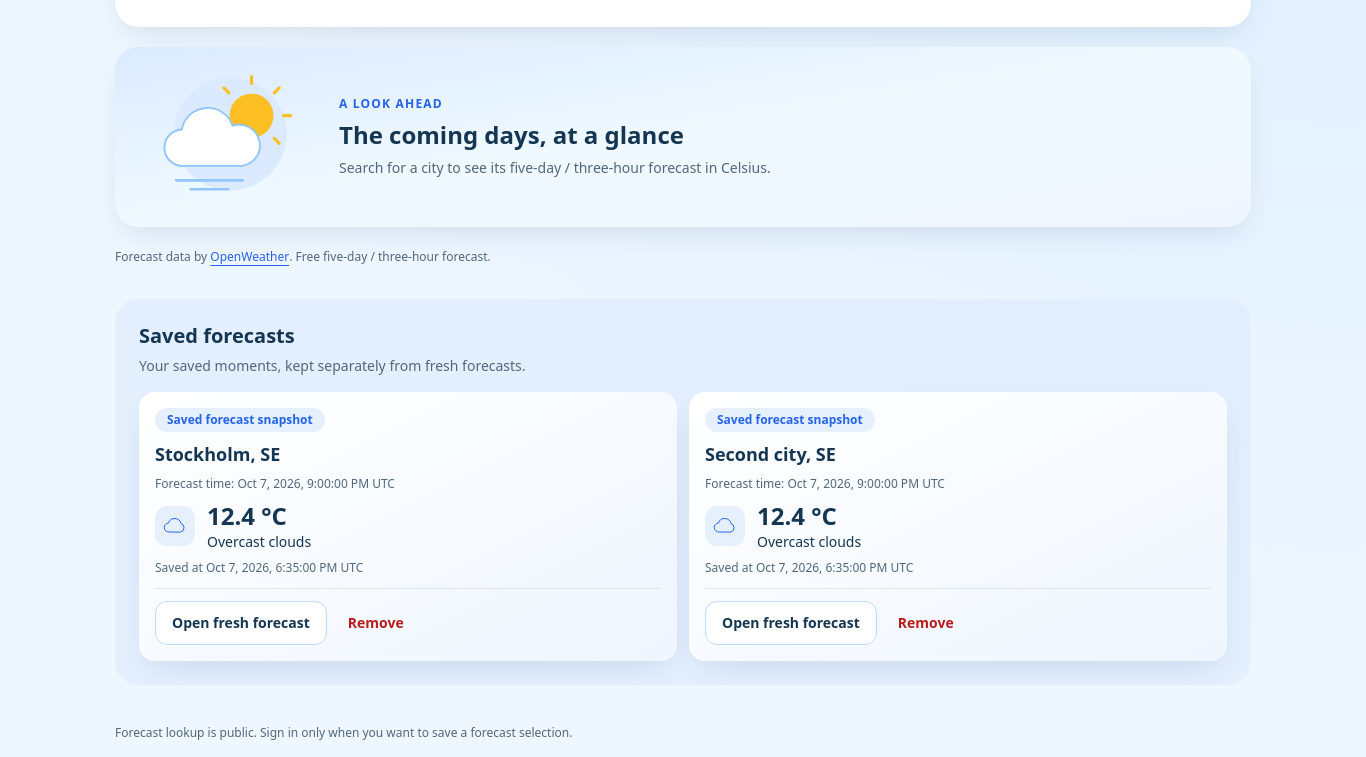
Scenario: weather and authentication journeys › ignores an older saved-location lookup that completes after the latest one
This screenshot has width=1366, height=757.
(page scrolled)
Click the button with aria-label "Open fresh forecast for Stockholm": (241, 623) [155, 601, 327, 645]
(page scrolled)
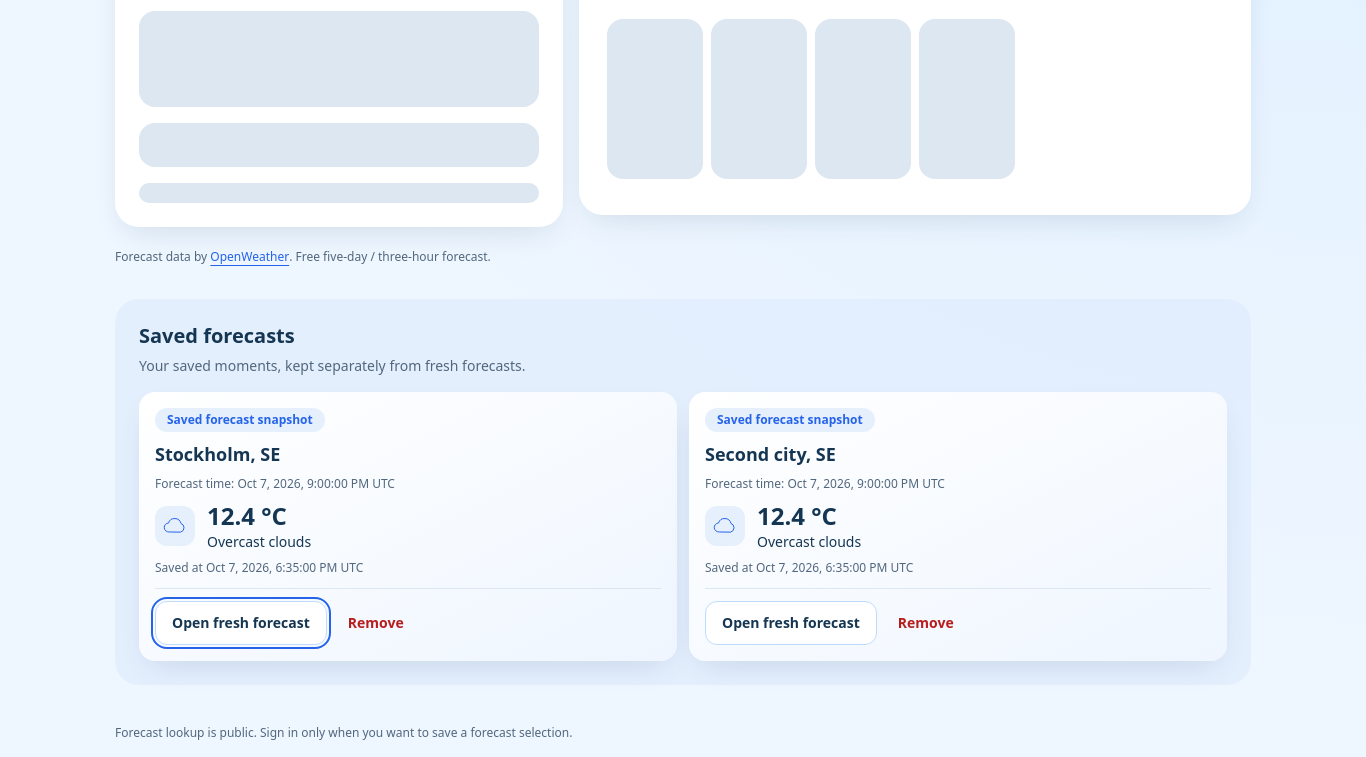
Click the button with aria-label "Open fresh forecast for Second city": (791, 623) [705, 601, 877, 645]
(page scrolled)
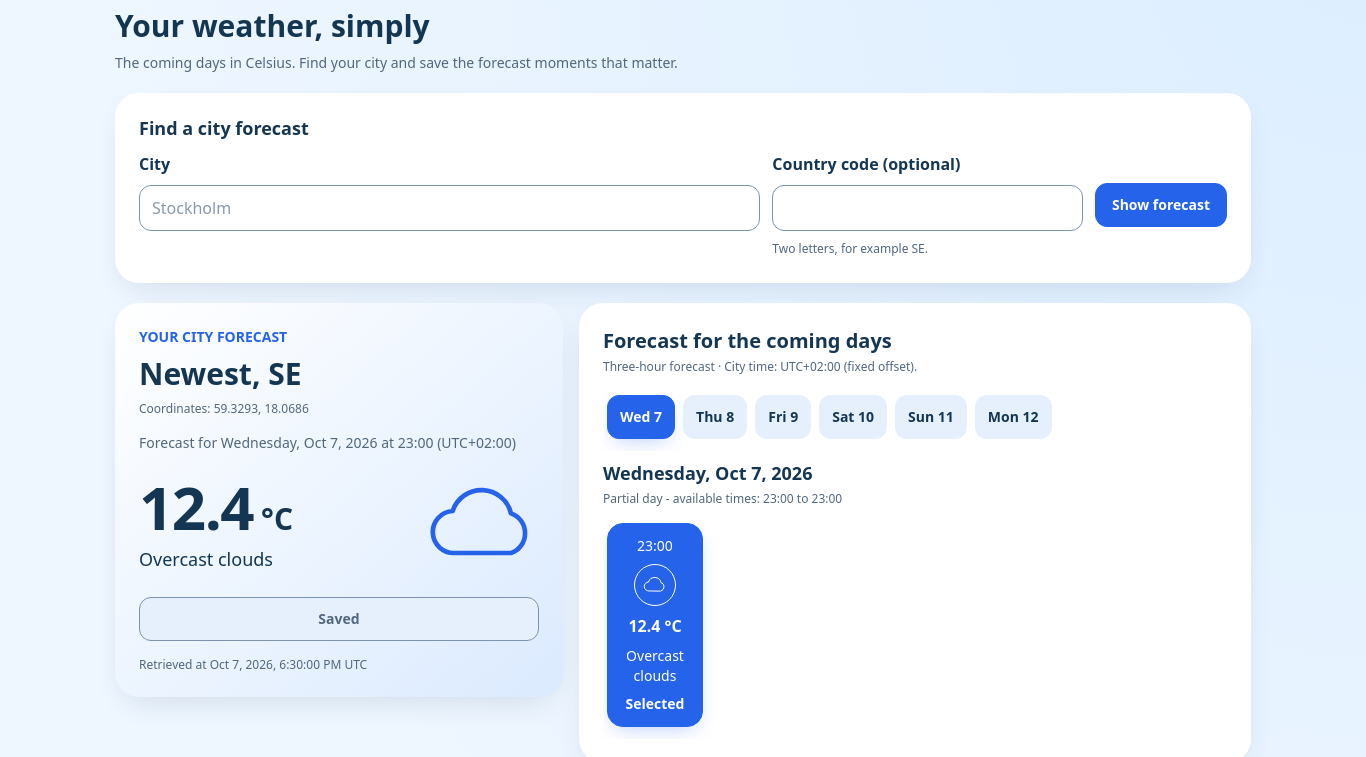
Expected: the heading "Stockholm, SE" is not shown
Now the heading "Newest, SE" is shown, box [139, 353, 302, 394]
